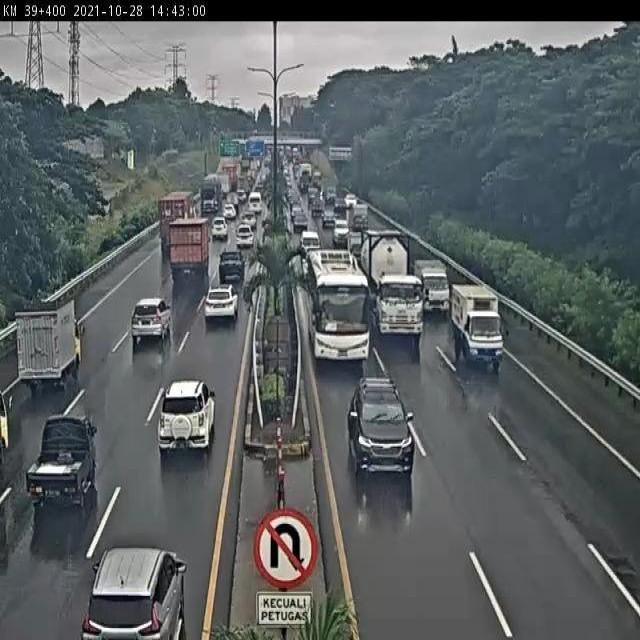big truck: (171, 213, 214, 276), (162, 188, 202, 253)
bus-l-: (308, 248, 376, 368)
car: (82, 545, 186, 640), (348, 376, 416, 480), (156, 380, 215, 453), (130, 296, 170, 343), (202, 284, 238, 324), (220, 249, 243, 280), (300, 229, 323, 259), (215, 215, 230, 237), (239, 222, 255, 242)
small truck: (28, 412, 98, 513), (13, 300, 83, 396)
truck-s-: (452, 282, 510, 370), (415, 259, 451, 313)
truck-xl-: (360, 227, 427, 344)
